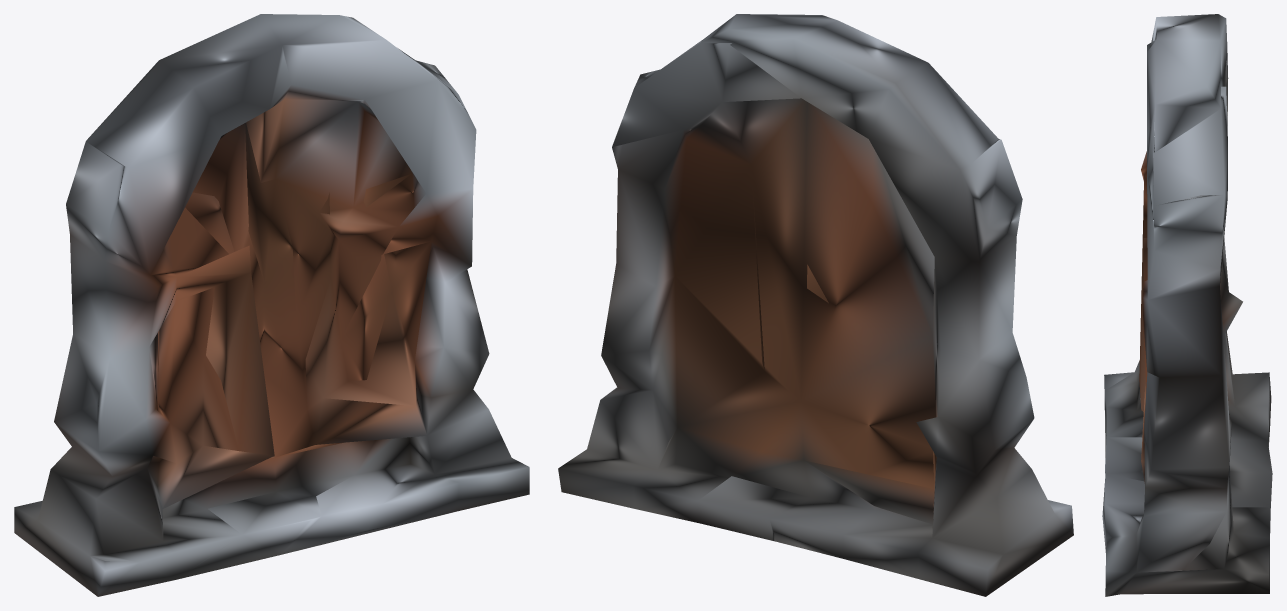
The model's file is gen3d-cellar-door-lod1.glb.
3 renders of one model, left to right at view 1: azimuth 30°, elevation 25°; view 2: azimuth 150°, elevation 25°; view 3: azimuth 270°, elevation 25°, orthographic. The views are drawn at different scales.
Visible parts, largest first — view 1: part_0; view 2: part_0; view 3: part_0.
Boxes of the visible parts, left/top/right/bottom form: part_0: left=14, top=14, right=529, bottom=596; part_0: left=558, top=14, right=1073, bottom=596; part_0: left=1102, top=14, right=1272, bottom=596.
Bounding box in the file's own units: 0.9209 × 0.9931 × 0.3327.
